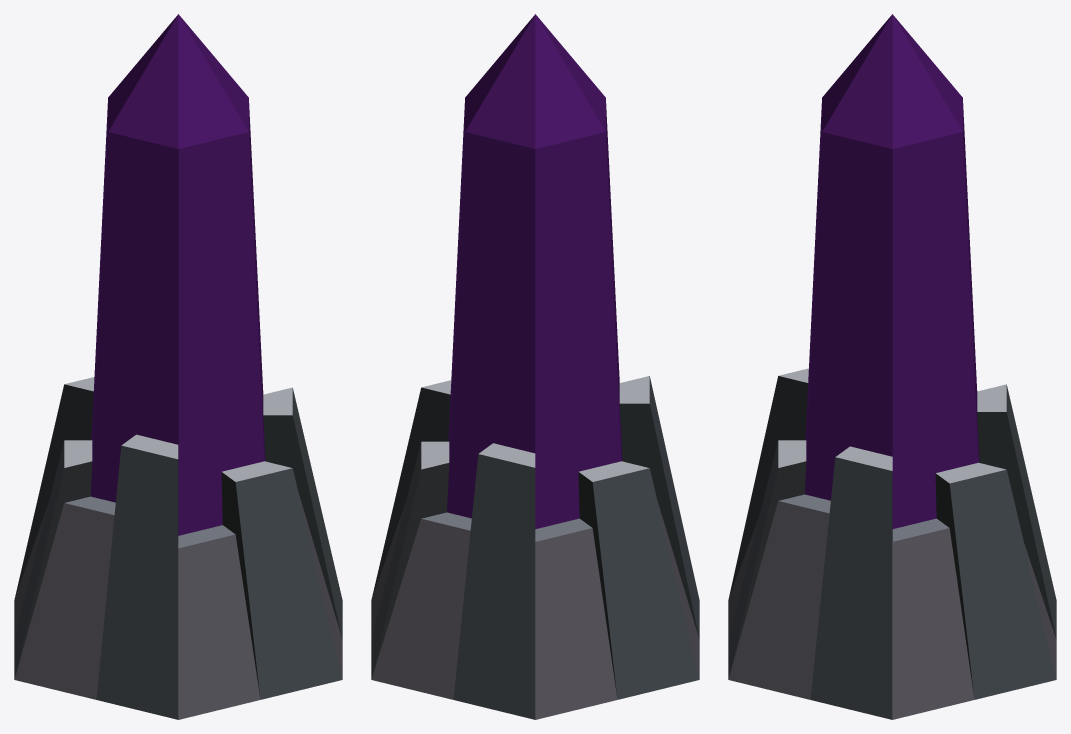
File: TB_Str_Crystal_F.FBX
The picture shows the model from 3 angles, left to right: view 1: azimuth 30°, elevation 25°; view 2: azimuth 150°, elevation 25°; view 3: azimuth 270°, elevation 25°; orthographic projection.
Parts seen in each view (by area): view 1: TB_Str_Crystal_F; view 2: TB_Str_Crystal_F; view 3: TB_Str_Crystal_F.
Part boxes in pixels (box(x1,y1,x2,y2)): TB_Str_Crystal_F: box(14, 14, 342, 719); TB_Str_Crystal_F: box(371, 14, 699, 719); TB_Str_Crystal_F: box(728, 14, 1056, 719).
Bounding box in the file's own units: 2.24 × 4.09 × 1.94.
